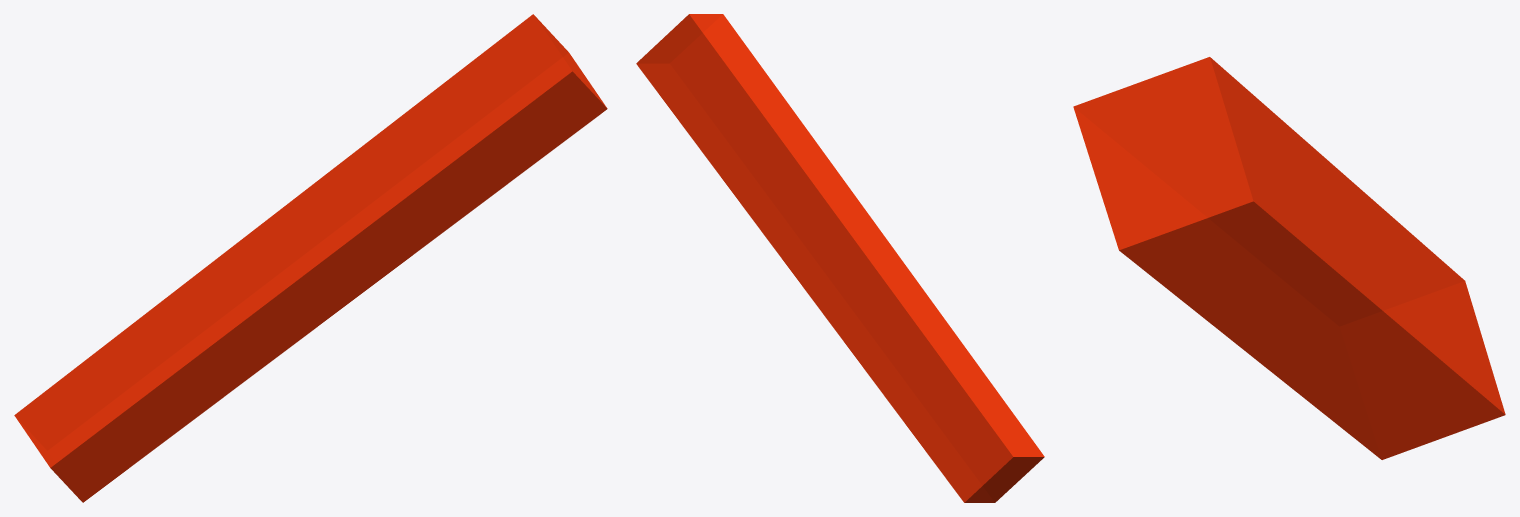
The model's file is Event_421115418_EBrechit_32.fbx.
3 renders of one model, left to right at view 1: azimuth 30°, elevation 25°; view 2: azimuth 150°, elevation 25°; view 3: azimuth 270°, elevation 25°, orthographic. The views are drawn at different scales.
Visible parts, largest first — view 1: Model; view 2: Model; view 3: Model.
Part boxes in pixels (x1,y1,x2,y2): Model: [14, 14, 607, 502]; Model: [636, 14, 1044, 502]; Model: [1073, 57, 1505, 459].
Size of the model in its own units: 0.4119 by 0.3404 by 0.1793.
